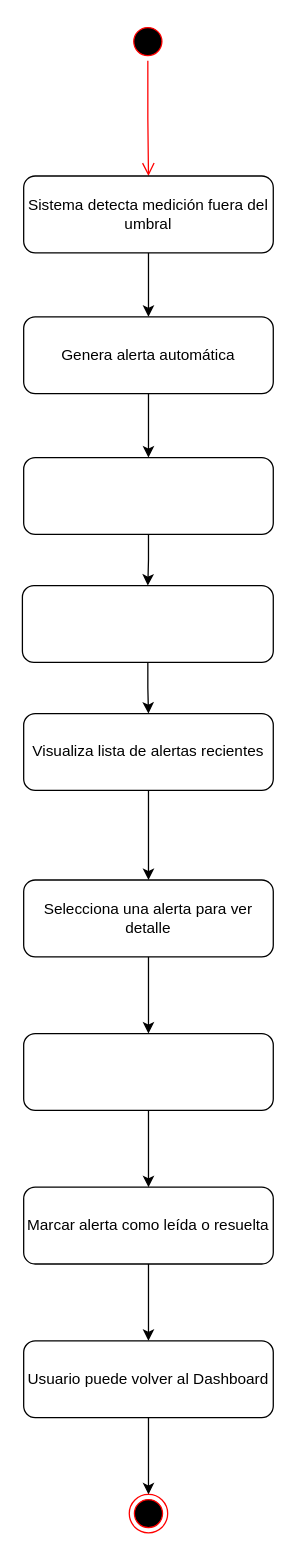
Some shapes in this 296 by 1555 pixel diagram are drawn without their labels. Here are the shapes that lost their labels. From the top down, the box of each, then its label:
(22, 456, 273, 534): Envía notificación al usuario (app/web)
(21, 584, 273, 662): Usuario abre el modulo "Alertas"
(22, 1032, 273, 1110): Revisa causas y sugerencias
